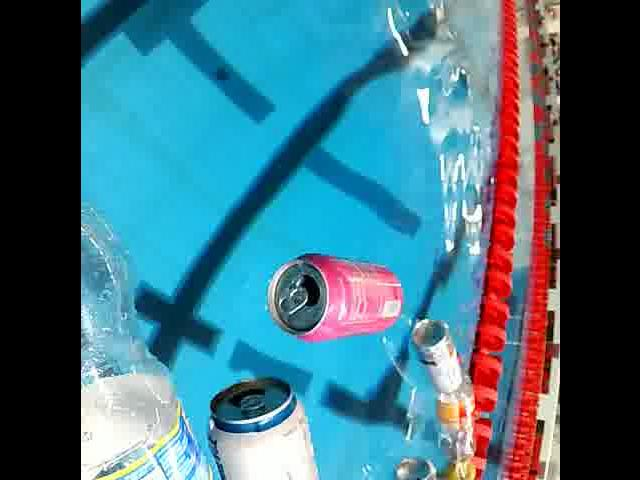Bottle: (80, 198, 219, 480), (436, 356, 478, 464)
Can: (199, 370, 333, 480), (260, 248, 412, 344), (412, 319, 459, 398), (387, 455, 441, 480), (428, 455, 476, 480)
